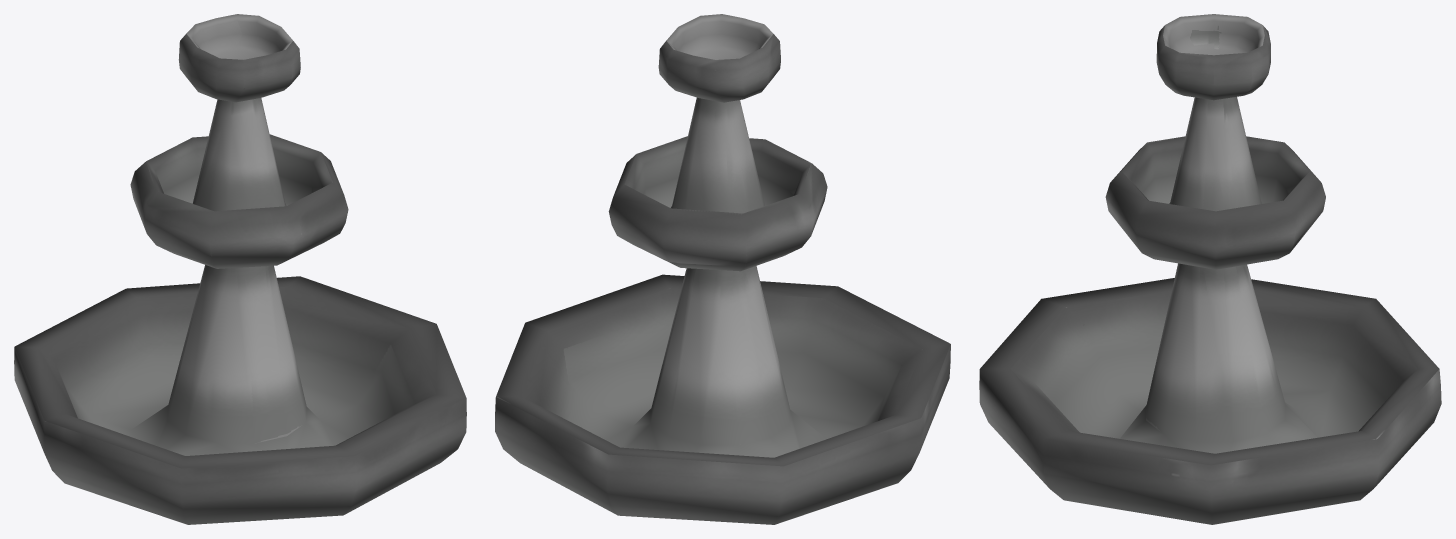
File: fuente .fbx
3 renders of one model, left to right at view 1: azimuth 30°, elevation 25°; view 2: azimuth 150°, elevation 25°; view 3: azimuth 270°, elevation 25°, orthographic.
Visible parts, largest first — view 1: fuente; view 2: fuente; view 3: fuente.
Part boxes in pixels (bbox=[...]): fuente: bbox=[14, 14, 466, 524]; fuente: bbox=[495, 14, 950, 524]; fuente: bbox=[979, 14, 1441, 524].
Size of the model in its own units: 3292 by 3339 by 3332.
